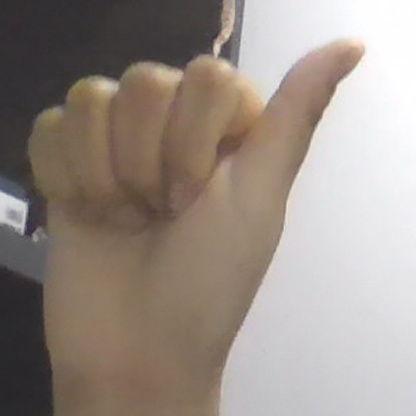A: (28, 40, 364, 387)
